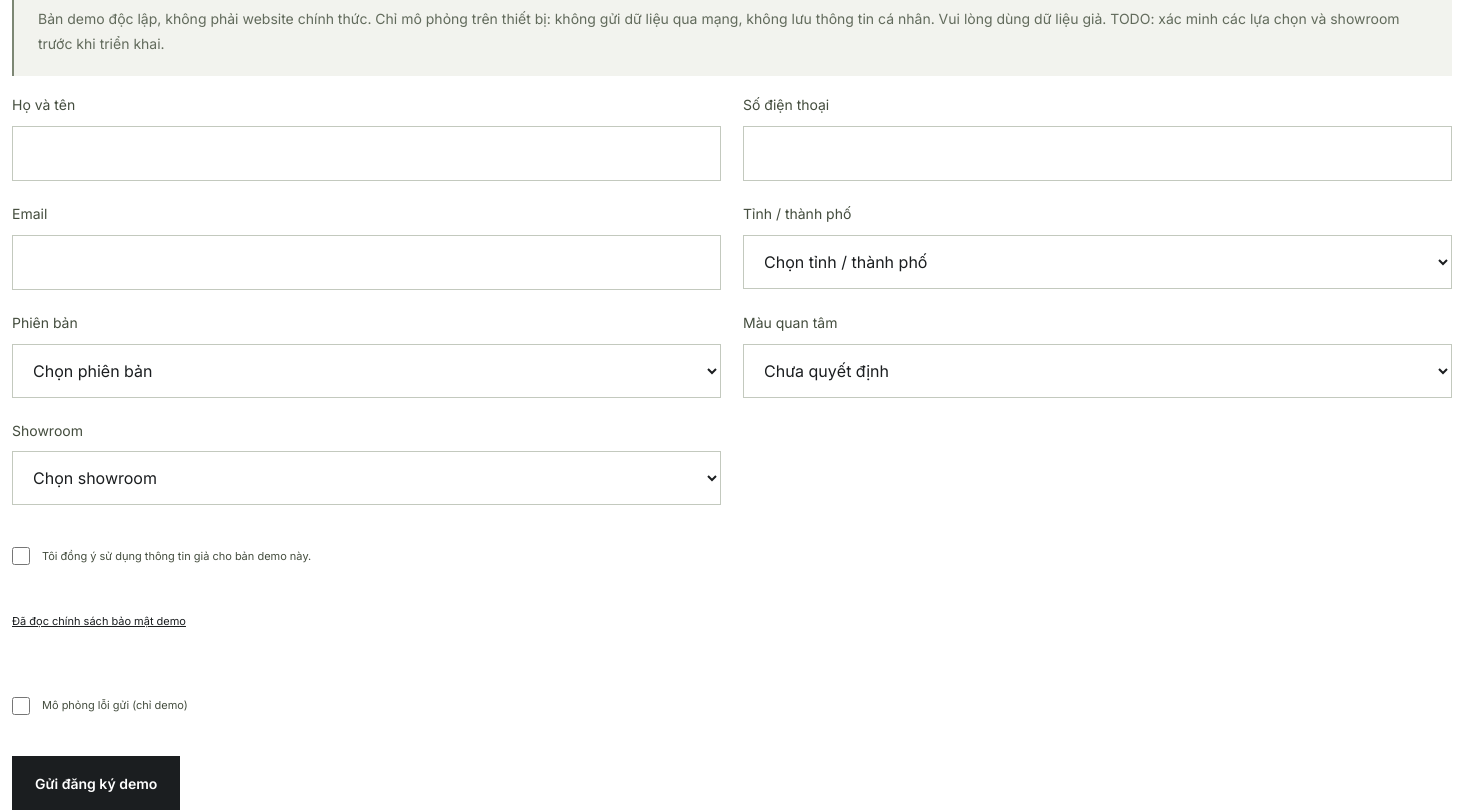
it: test drive form › shows accessible inline errors on an empty submission and discloses local-only demo behavior
(page scrolled)
Expected: the text "không gửi dữ liệu qua mạng" is shown, [38,10,1400,52]
Step 1. Click the button "Gửi đăng ký demo" → (96, 783), box [12,756,180,809]
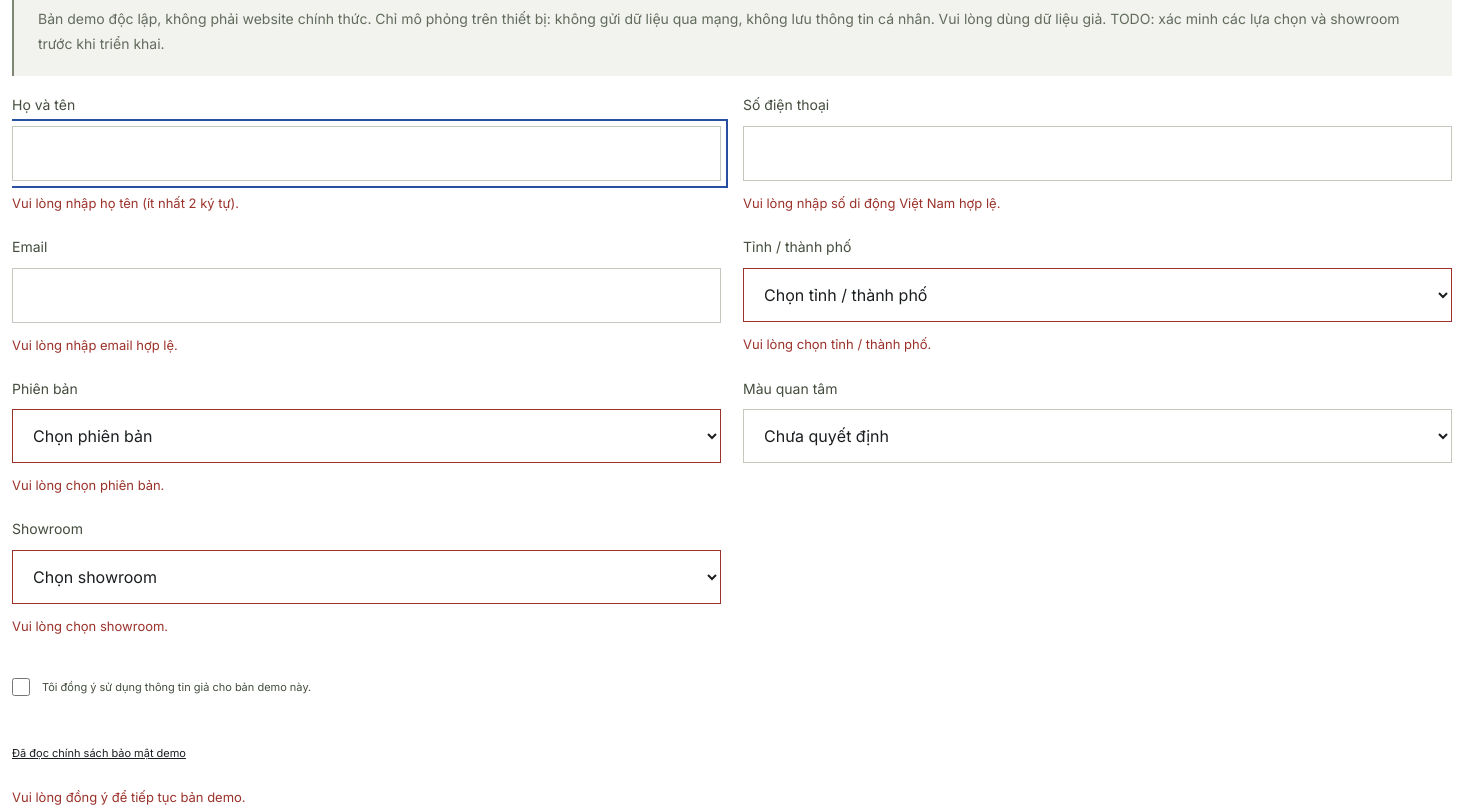
Now the text "Vui lòng nhập họ tên (ít nhất 2 ký tự)." is shown, box [12,195,239,211]
Now the text "Vui lòng đồng ý để tiếp tục bản demo." is shown, box [12,789,246,805]
